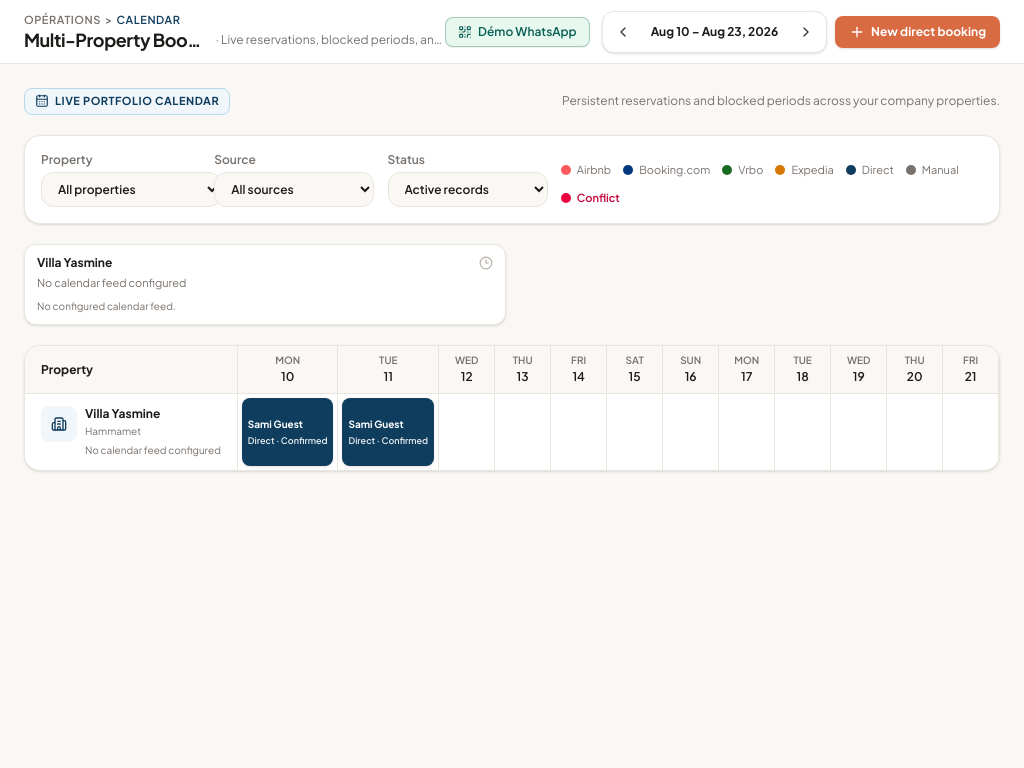
Test: CalendarPage › displays settled indicator when reservation is paid in full
This screenshot has width=1024, height=768.
Click the 1st button "Sami Guest Direct · Confirmed" at (288,432), box [242,398,334,466]
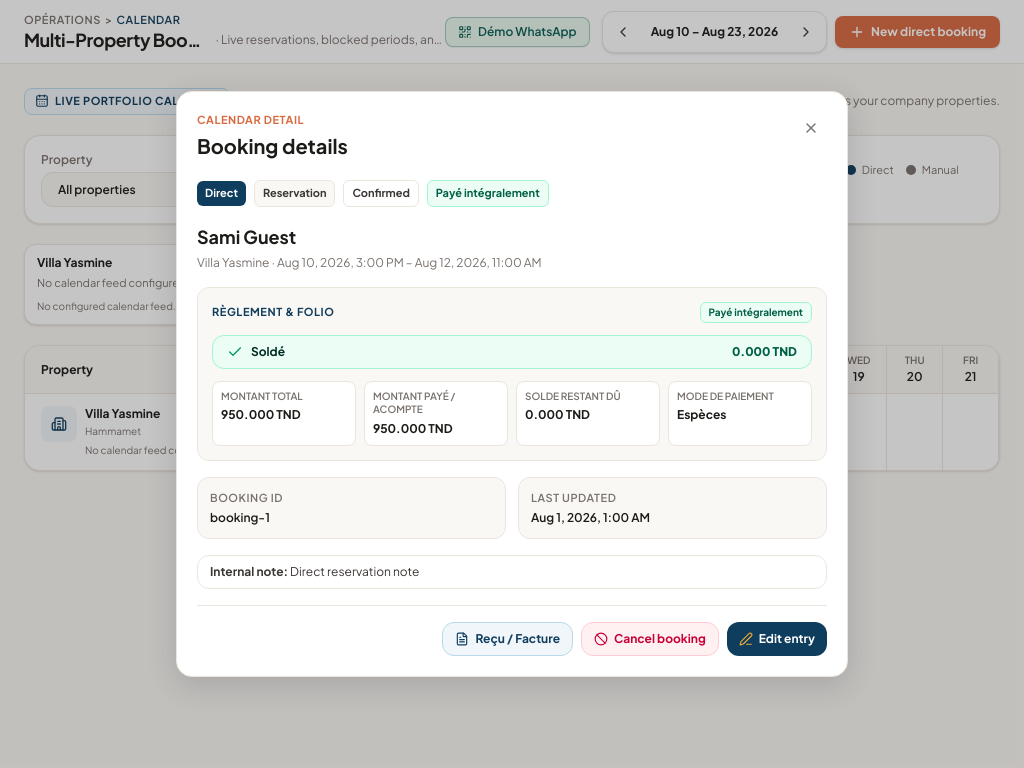
Expected: the text with test id "booking-payment-badge" reads "Payé intégralement", [436,186,540,199]
Expected: the element with test id "settled-balance-callout" shows "0.000 TND", [212,335,812,369]
